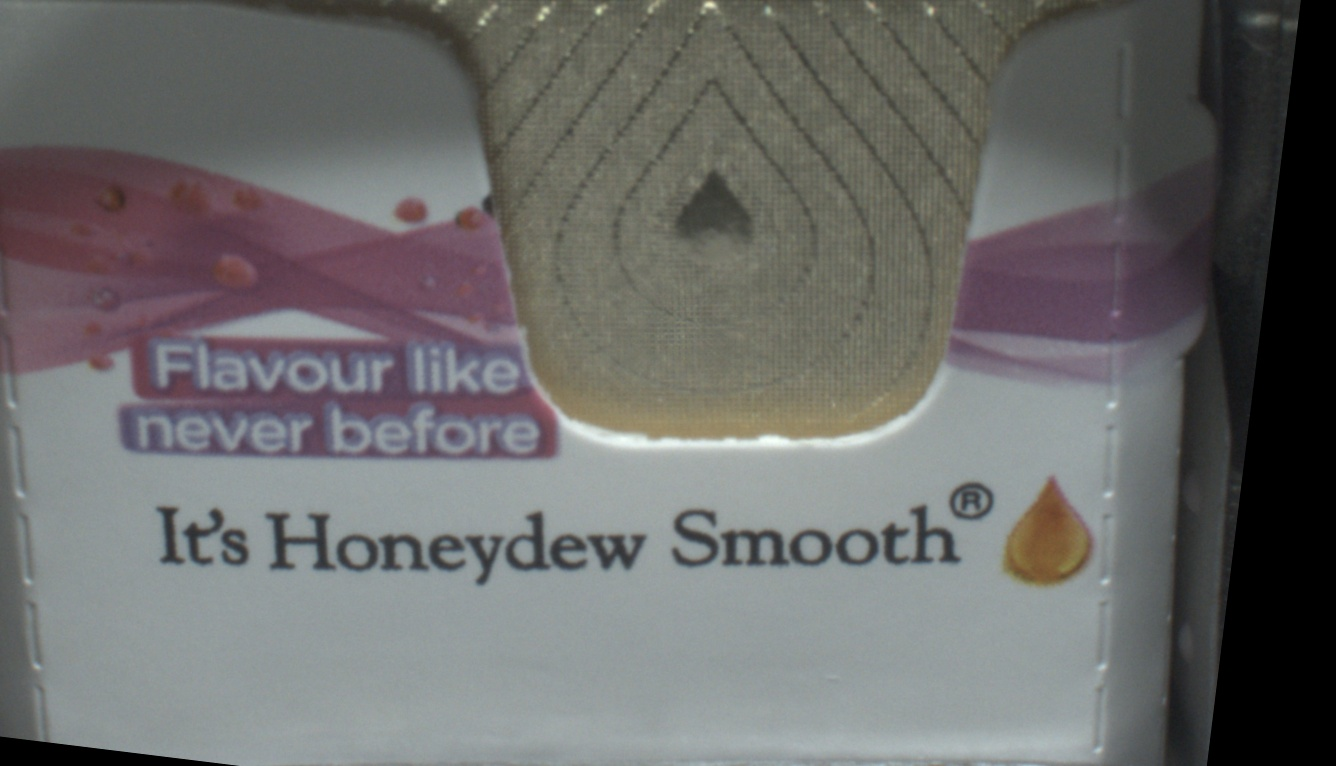dd: (732, 221, 871, 348)
